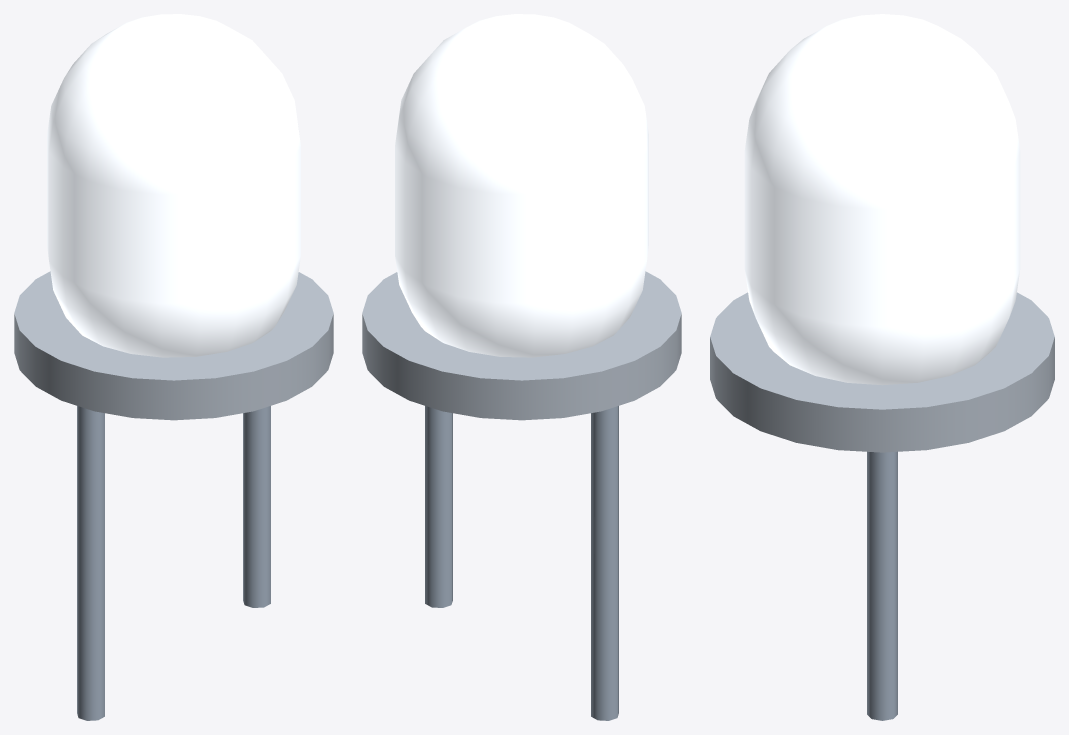
The model's file is led-white.gltf.
The picture shows the model from 3 angles, left to right: view 1: azimuth 30°, elevation 25°; view 2: azimuth 150°, elevation 25°; view 3: azimuth 270°, elevation 25°; orthographic projection. The views are drawn at different scales.
Parts seen in each view (by area): view 1: lens, collar, anode, cathode; view 2: lens, collar, anode, cathode; view 3: lens, collar, cathode.
Part boxes in pixels (x1,y1,x2,y2): lens: (47,14,300,357); collar: (14,271,333,420); anode: (77,406,104,720); cathode: (243,406,270,607); lens: (395,14,648,357); collar: (362,271,681,420); anode: (591,406,618,720); cathode: (425,406,452,607); lens: (744,14,1020,385); collar: (710,292,1054,452); cathode: (867,451,897,720).
Size of the model in its own units: 0.4 by 0.925 by 0.4.
